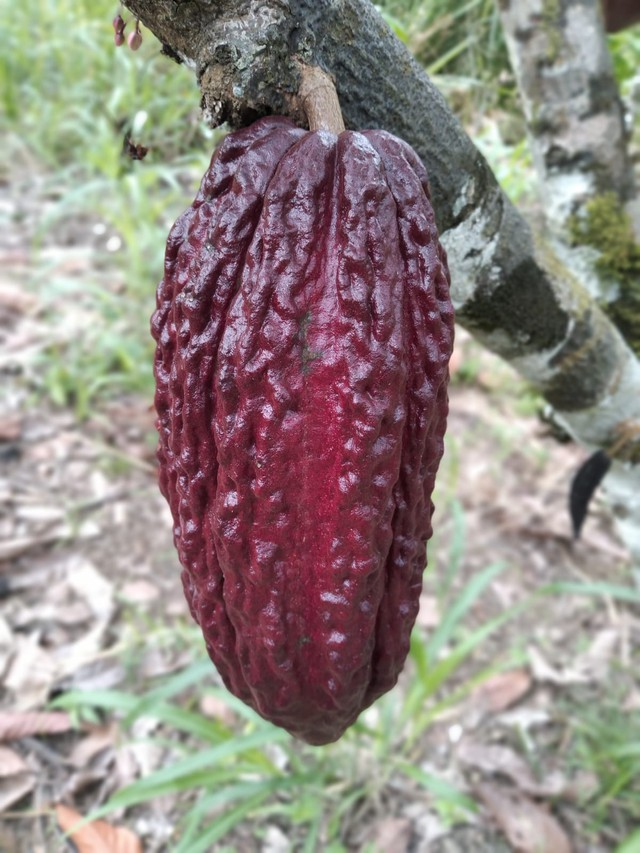Health: (135, 92, 495, 769)
